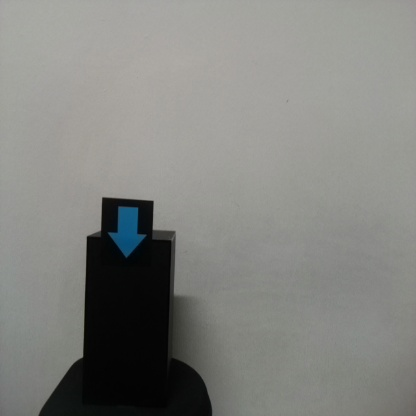id_2: (102, 199, 153, 273)
